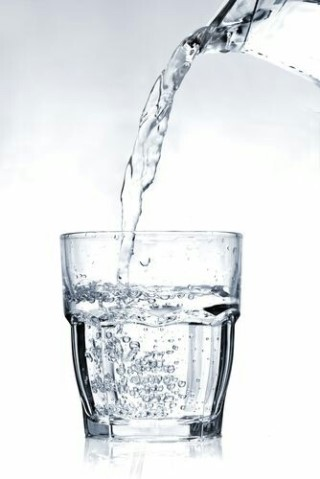glass of water: (64, 232, 249, 440)
